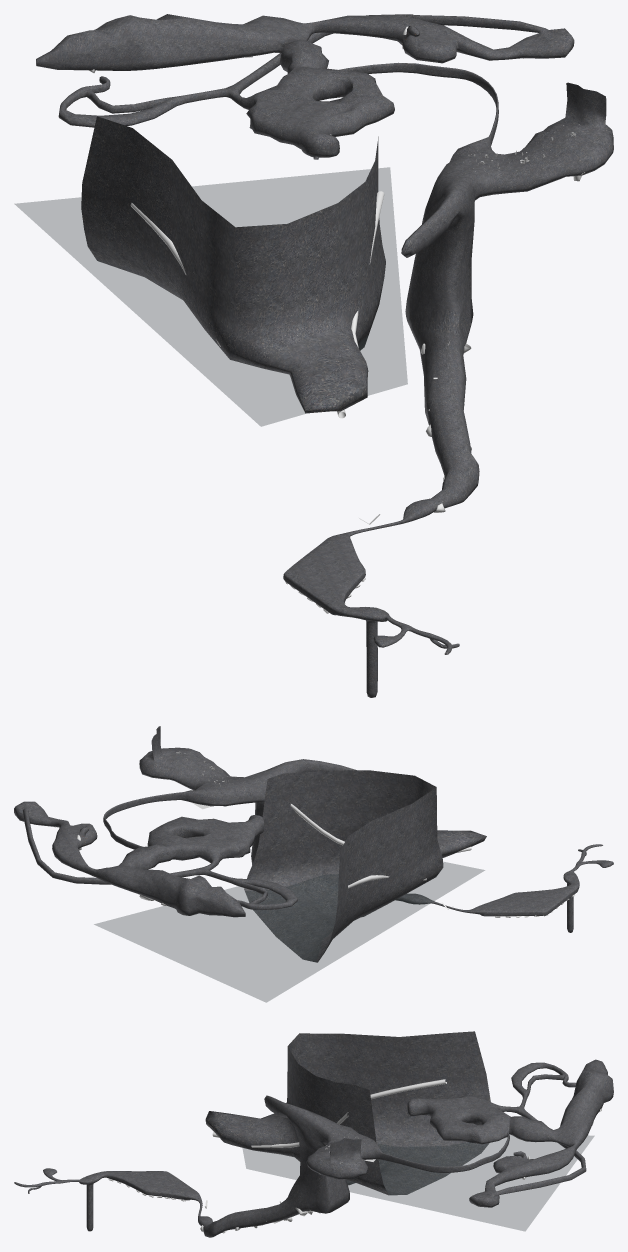
Rendered from Cave (2).fbx.
The picture shows the model from 3 angles, top to bottom: view 1: azimuth 30°, elevation 25°; view 2: azimuth 150°, elevation 25°; view 3: azimuth 270°, elevation 25°; orthographic projection. The views are drawn at different scales.
Parts seen in each view (by area): view 1: Cave_sclpt.002, Cube.004, Cube.001, Cylinder; view 2: Cube.004, Cave_sclpt.002, Cube.001, Cylinder; view 3: Cube.004, Cave_sclpt.002, Cube.001, Cylinder.
Boxes of the visible parts, x1,y1,x2,y2 form: Cave_sclpt.002: (36,14,613,697); Cube.004: (81,116,385,413); Cube.001: (15,167,407,426); Cylinder: (130,191,384,418); Cube.004: (244,770,486,962); Cave_sclpt.002: (14,726,613,932); Cube.001: (94,862,484,1002); Cylinder: (290,804,471,888); Cube.004: (205,1031,490,1195); Cave_sclpt.002: (14,1059,613,1237); Cube.001: (242,1135,593,1230); Cylinder: (212,1079,446,1147).
Size of the model in its own units: 13301 by 8198 by 20405.
